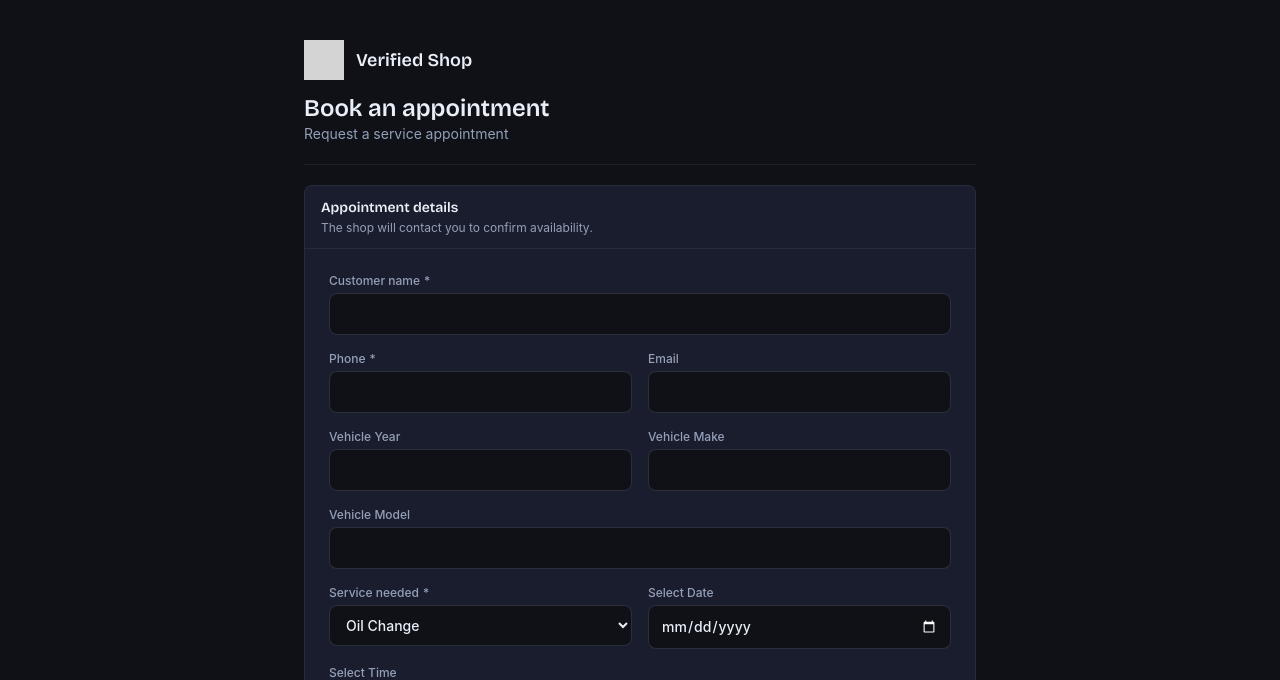
Test: shows authoritative identity and submits with query abcdefghijklmnop, no body shop_id
The width and height of the screenshot is (1280, 680).
Expected: the text "Verified Shop" is shown, [356, 46, 472, 74]
Expected: the text "Spoofed" is not shown
Type "Test Customer" into the field labelled "Customer name" at (640, 314), box [329, 293, 951, 335]
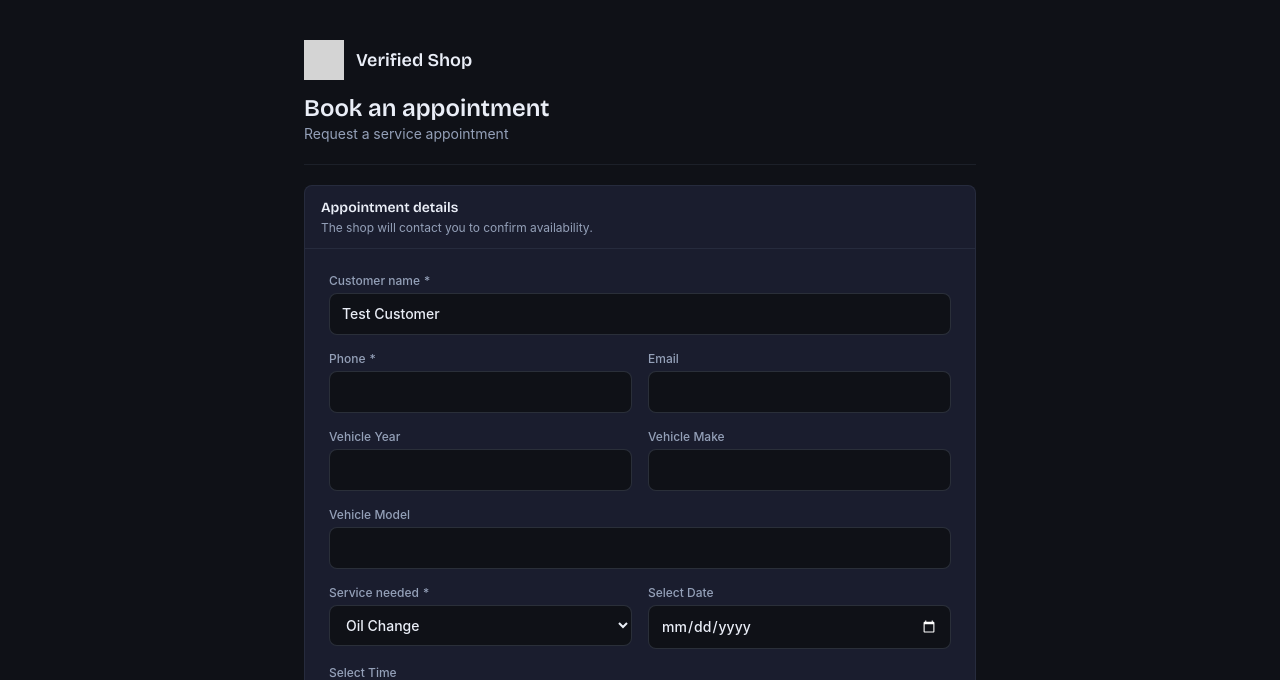
Type "5551234567" into the field labelled "Phone" at (480, 392), box [329, 371, 632, 413]
(page scrolled)
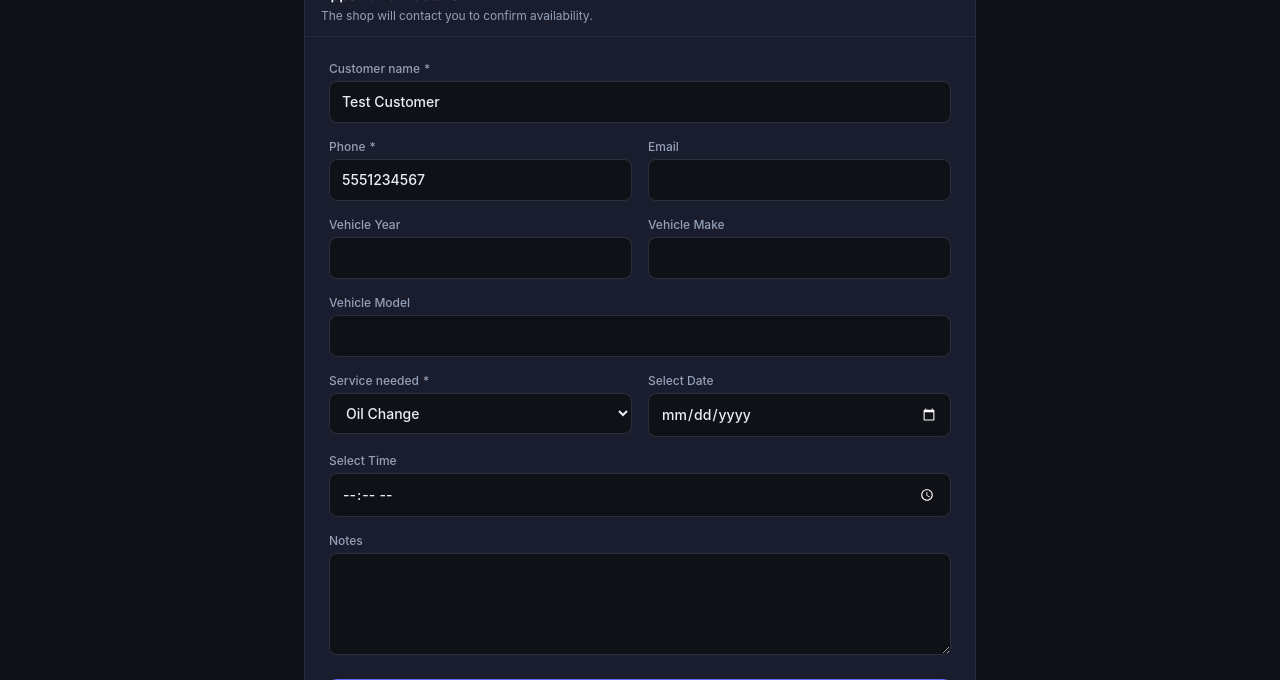
Submit the form
(page scrolled)
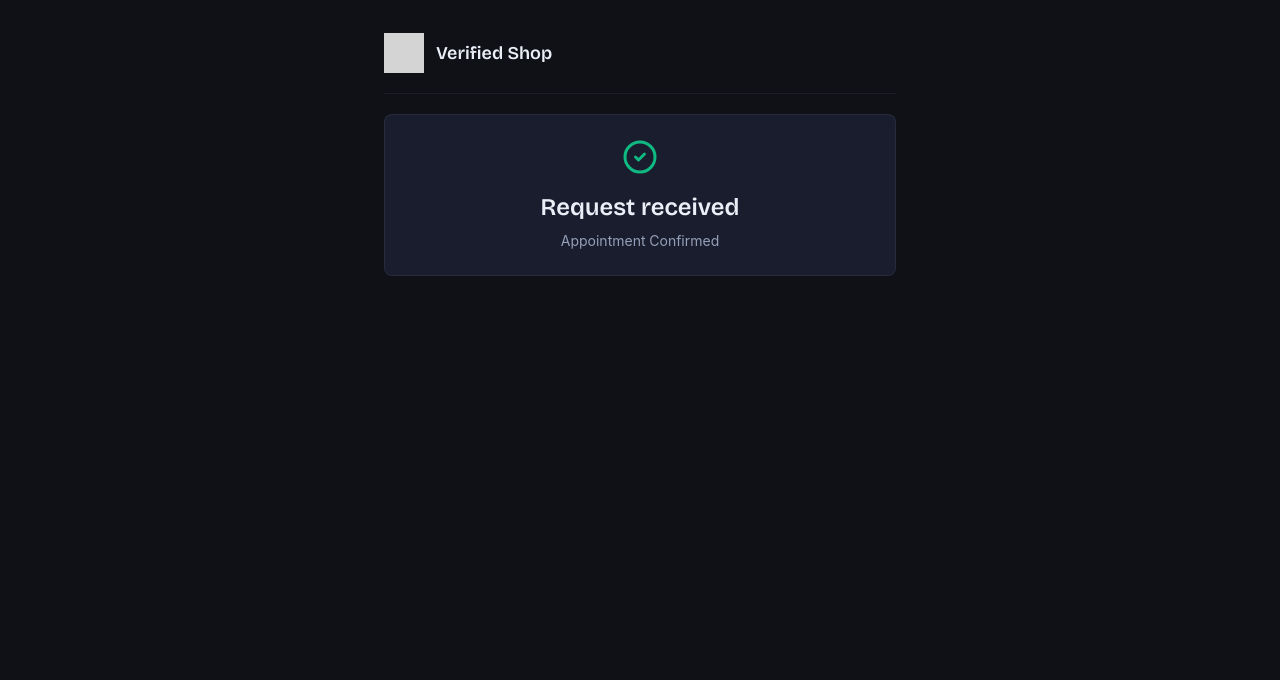
Now the heading "Request received" is shown, box [540, 193, 739, 221]
